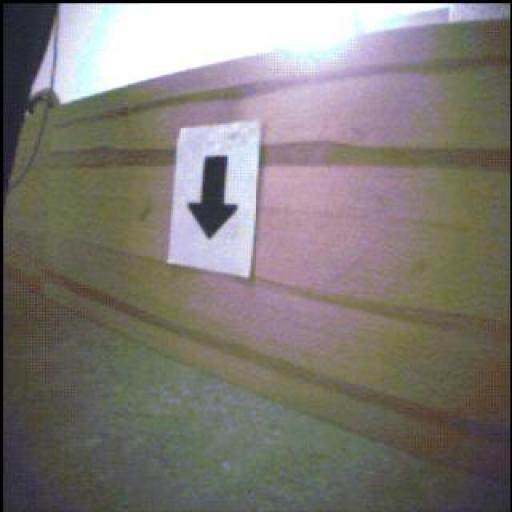Arrow: (190, 157, 238, 240)
